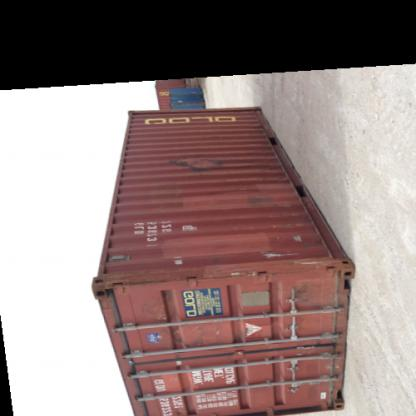Damage: (164, 148, 226, 179), (159, 320, 214, 354), (290, 278, 332, 314), (257, 247, 322, 270), (307, 380, 341, 408), (234, 192, 274, 214), (101, 243, 136, 267), (167, 247, 195, 270), (174, 216, 203, 236), (291, 226, 311, 246)
